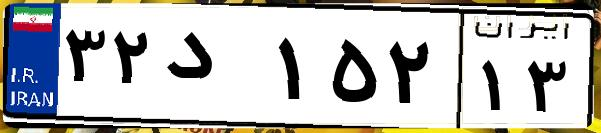1: (270, 28, 330, 110), (475, 38, 525, 113)
2: (385, 28, 445, 110), (110, 28, 158, 98)
3: (57, 26, 110, 100), (525, 38, 570, 115)
5: (330, 28, 385, 110)
د: (158, 20, 270, 120)
